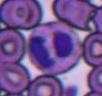N: (29, 22, 80, 74)
